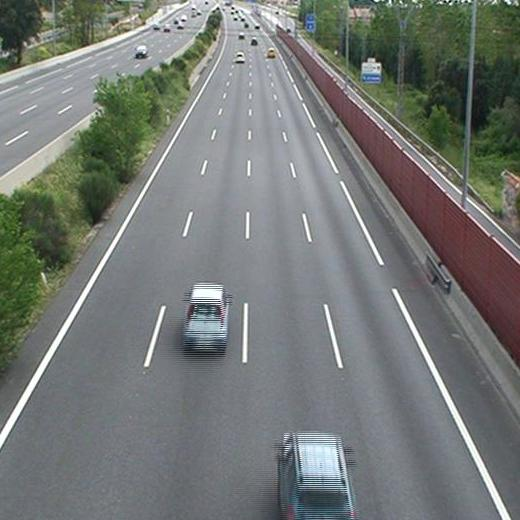car: (279, 432, 351, 520), (184, 286, 227, 348), (235, 53, 246, 62), (267, 48, 276, 57)
